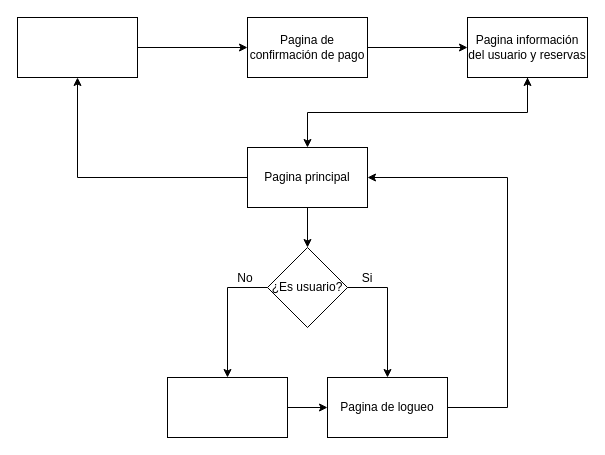
Some shapes in this 605 by 455 pixel diagram are drawn without their labels. Each missing label, with the centre of its shape:
Pagina de confirmación y realización de la reserva: point 77,47
Pagina registro: point 227,407
